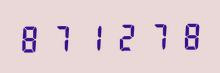eight: (17, 21, 47, 54), (173, 18, 203, 51)
one: (80, 20, 110, 52)
seven: (48, 21, 78, 53), (142, 19, 172, 51)
two: (111, 19, 141, 52)
